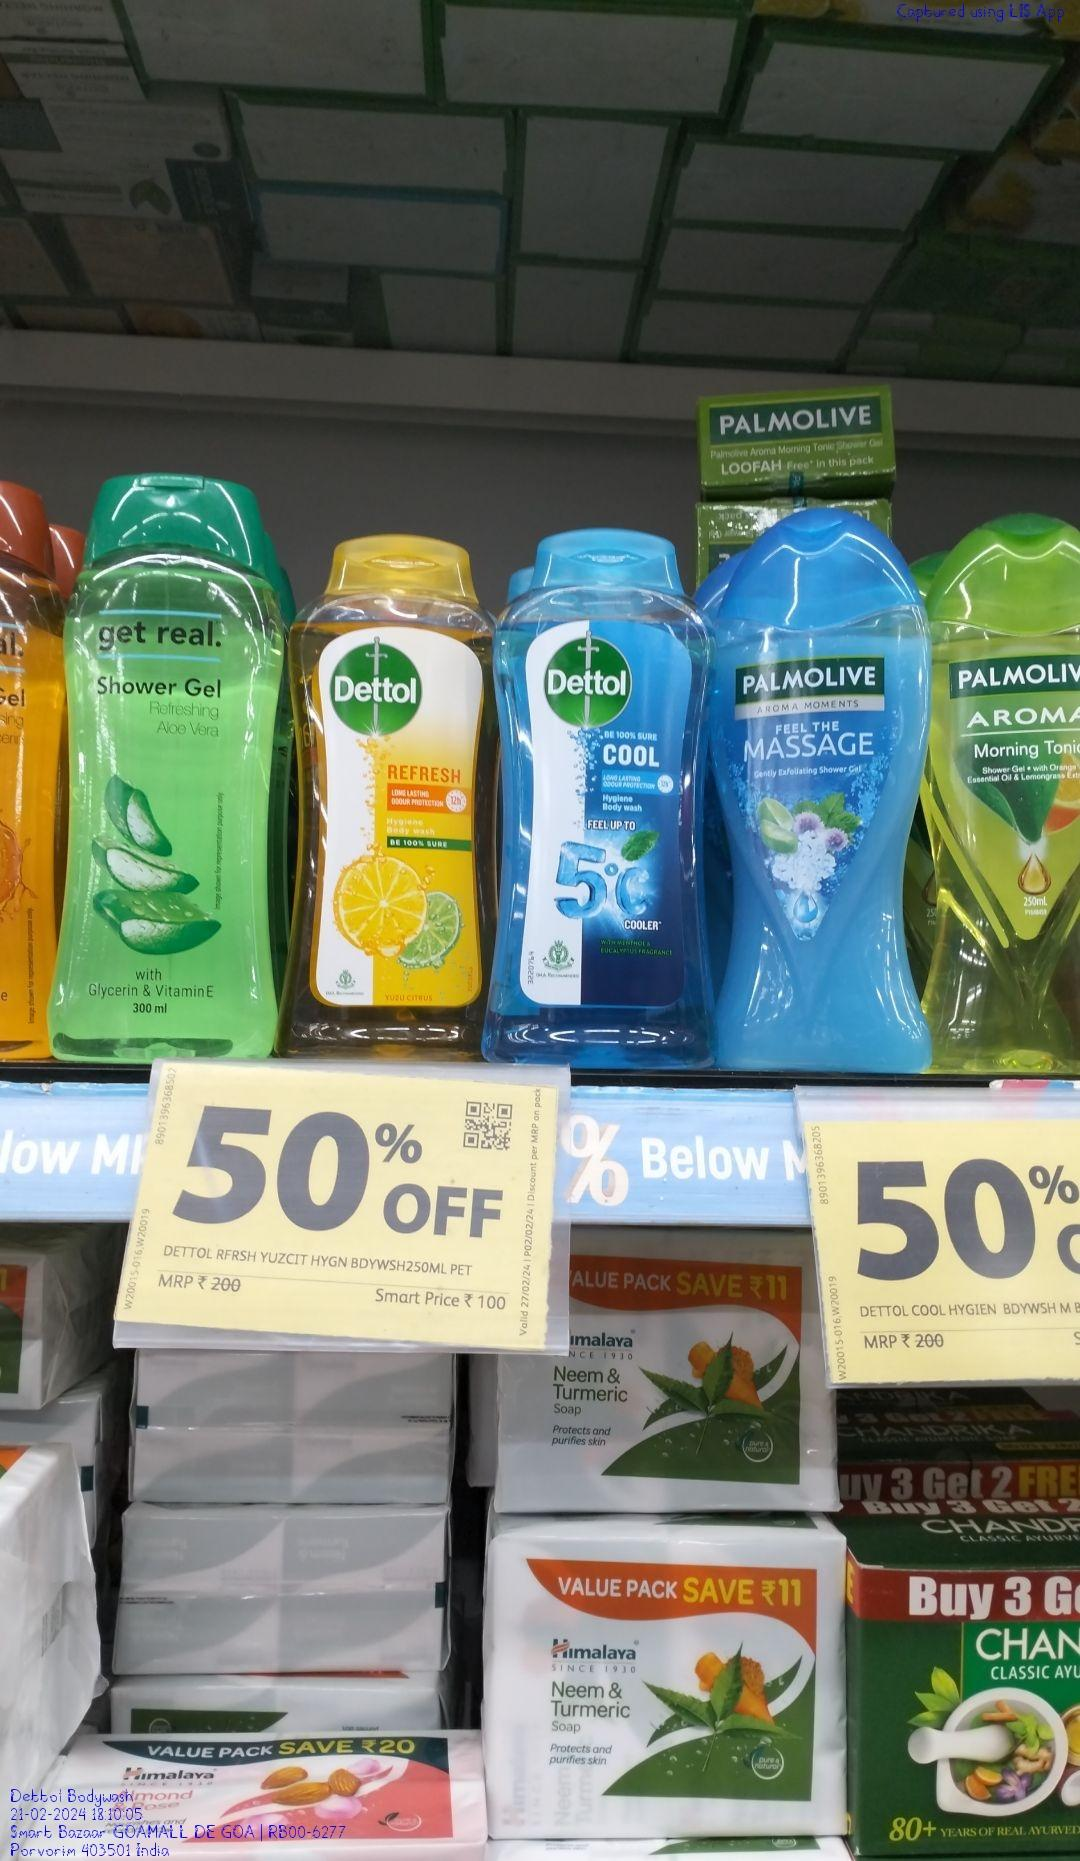Dettol_Bodywash_Cool: (487, 532, 715, 1065)
Dettol_Bodywash_Refresh: (285, 532, 487, 1058)
Palmolive_Aroma_Moments_Feel_The_Massage_Shower_Gel_250ML: (715, 518, 937, 1077)
Palmolive_Aroma_Morning_Tonic_Shower_Gel_250ML: (930, 518, 1080, 1072)
